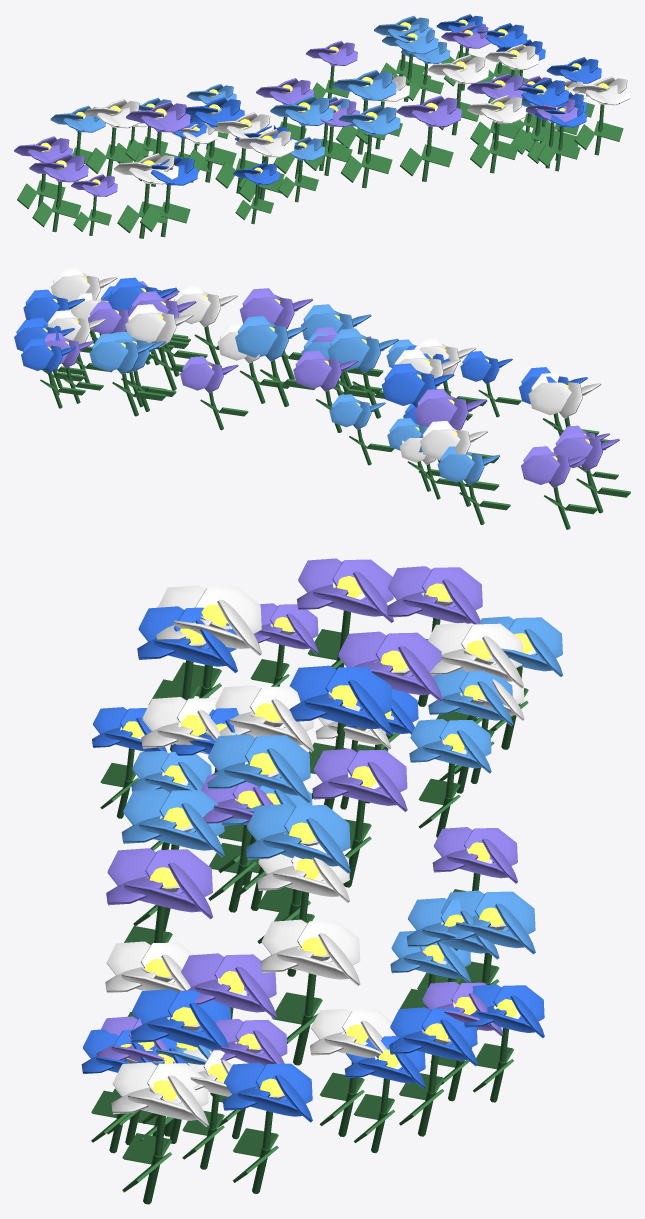
The model's file is foreground-flowers-detailed.glb.
3 renders of one model, top to bottom at view 1: azimuth 30°, elevation 25°; view 2: azimuth 150°, elevation 25°; view 3: azimuth 270°, elevation 25°, orthographic. The views are drawn at different scales.
Visible parts, largest first — view 1: ForegroundFlowersDetailed_leafGreen, ForegroundFlowersDetailed_flowerLavender, ForegroundFlowersDetailed_flowerWhite, ForegroundFlowersDetailed_flowerCyan, ForegroundFlowersDetailed_flowerBlue1, ForegroundFlowersDetailed_stemGreen, ForegroundFlowersDetailed_flowerCenterGold, ForegroundFlowersDetailed_flowerCenterWhite; view 2: ForegroundFlowersDetailed_flowerLavender, ForegroundFlowersDetailed_flowerWhite, ForegroundFlowersDetailed_flowerCyan, ForegroundFlowersDetailed_flowerBlue1, ForegroundFlowersDetailed_leafGreen, ForegroundFlowersDetailed_stemGreen, ForegroundFlowersDetailed_flowerCenterGold; view 3: ForegroundFlowersDetailed_flowerLavender, ForegroundFlowersDetailed_flowerWhite, ForegroundFlowersDetailed_flowerCyan, ForegroundFlowersDetailed_flowerBlue1, ForegroundFlowersDetailed_leafGreen, ForegroundFlowersDetailed_stemGreen, ForegroundFlowersDetailed_flowerCenterGold, ForegroundFlowersDetailed_flowerCenterWhite.
Boxes of the visible parts, x1,y1,x2,y2 form: ForegroundFlowersDetailed_leafGreen: (17,51,623,233); ForegroundFlowersDetailed_flowerLavender: (14,24,578,196); ForegroundFlowersDetailed_flowerWhite: (83,44,630,184); ForegroundFlowersDetailed_flowerCyan: (50,16,560,160); ForegroundFlowersDetailed_flowerBlue1: (151,14,601,185); ForegroundFlowersDetailed_stemGreen: (37,44,604,238); ForegroundFlowersDetailed_flowerCenterGold: (40,19,608,186); ForegroundFlowersDetailed_flowerCenterWhite: (46,25,610,187); ForegroundFlowersDetailed_flowerLavender: (44,282,619,487); ForegroundFlowersDetailed_flowerWhite: (47,267,601,464); ForegroundFlowersDetailed_flowerCyan: (89,304,500,485); ForegroundFlowersDetailed_flowerBlue1: (14,277,587,423); ForegroundFlowersDetailed_leafGreen: (40,330,630,514); ForegroundFlowersDetailed_stemGreen: (47,326,603,529); ForegroundFlowersDetailed_flowerCenterGold: (43,277,589,460); ForegroundFlowersDetailed_flowerLavender: (96,558,517,1065); ForegroundFlowersDetailed_flowerWhite: (105,585,524,1126); ForegroundFlowersDetailed_flowerCyan: (121,616,563,1064); ForegroundFlowersDetailed_flowerBlue1: (81,606,544,1122); ForegroundFlowersDetailed_leafGreen: (91,629,528,1192); ForegroundFlowersDetailed_stemGreen: (109,610,522,1204); ForegroundFlowersDetailed_flowerCenterGold: (120,576,532,1101); ForegroundFlowersDetailed_flowerCenterWhite: (120,583,535,1104).
Size of the model in its own units: 7.07 by 1.21 by 2.67.
